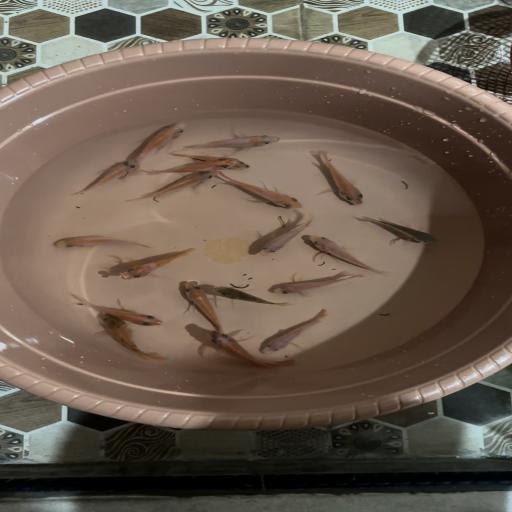nila: (303, 231, 392, 279), (93, 310, 172, 364), (201, 330, 298, 372), (67, 294, 170, 332), (256, 306, 334, 356), (113, 246, 200, 286), (311, 148, 368, 208), (216, 172, 306, 210), (124, 170, 216, 206), (354, 213, 444, 247), (166, 130, 283, 156), (252, 210, 317, 256), (128, 121, 188, 168), (268, 271, 363, 300), (70, 160, 136, 200), (176, 279, 225, 331), (48, 234, 155, 254), (173, 148, 257, 172), (144, 157, 234, 179), (212, 285, 291, 306)
